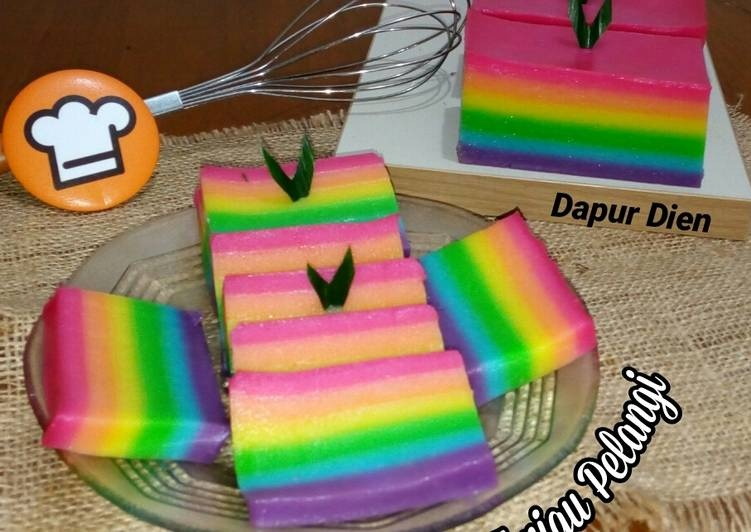kue_lapis_pelangi: (230, 350, 503, 531), (40, 284, 227, 472), (419, 212, 598, 405), (457, 60, 713, 188)
